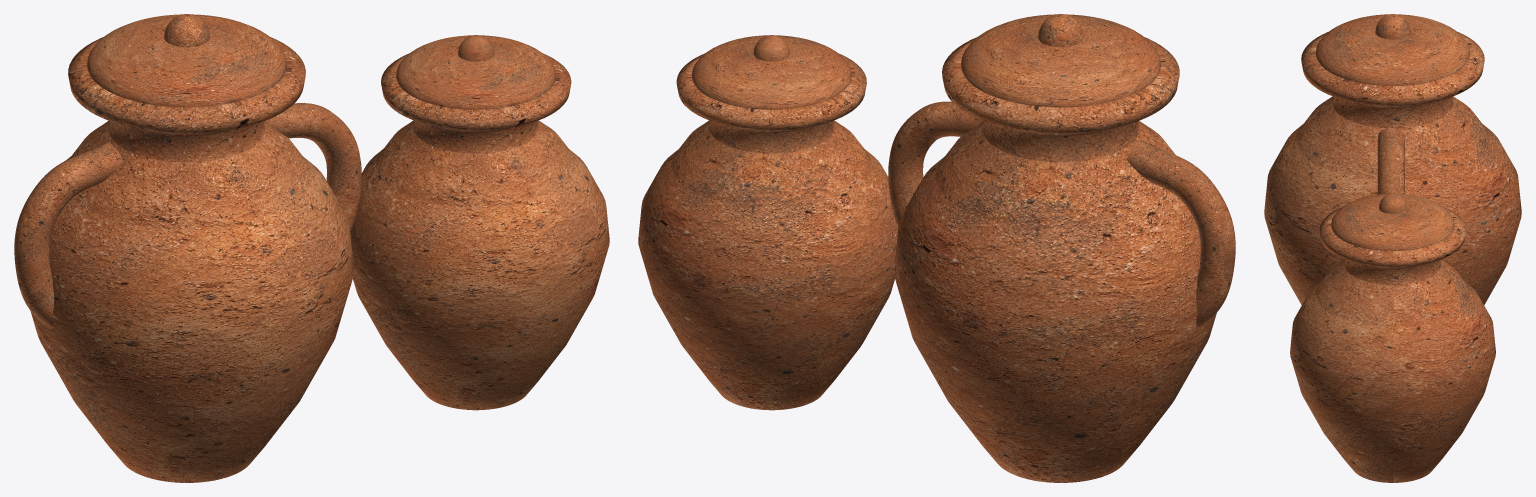
File: funeral-urns-v02.glb
3 renders of one model, left to right at view 1: azimuth 30°, elevation 25°; view 2: azimuth 150°, elevation 25°; view 3: azimuth 270°, elevation 25°, orthographic. The views are drawn at different scales.
Parts seen in each view (by area): view 1: Urna maior corpo de urna, Urna menor corpo de urna, Urna maior tampa, Urna menor tampa, Urna maior alca esquerda, Urna maior alca direita, Urna maior pomo da tampa, Urna menor pomo da tampa; view 2: Urna maior corpo de urna, Urna menor corpo de urna, Urna maior tampa, Urna menor tampa, Urna maior alca esquerda, Urna maior alca direita, Urna maior pomo da tampa, Urna menor pomo da tampa; view 3: Urna menor corpo de urna, Urna maior corpo de urna, Urna maior tampa, Urna menor tampa, Urna maior alca direita, Urna maior pomo da tampa, Urna menor pomo da tampa.
Boxes of the visible parts, x1,y1,x2,y2 form: Urna maior corpo de urna: (30, 37, 353, 482); Urna menor corpo de urna: (350, 53, 609, 410); Urna maior tampa: (87, 14, 286, 107); Urna menor tampa: (396, 35, 556, 109); Urna maior alca esquerda: (14, 142, 123, 328); Urna maior alca direita: (265, 103, 361, 231); Urna maior pomo da tampa: (164, 14, 209, 47); Urna menor pomo da tampa: (458, 35, 494, 61); Urna maior corpo de urna: (894, 37, 1216, 482); Urna menor corpo de urna: (638, 53, 898, 410); Urna maior tampa: (960, 14, 1160, 107); Urna menor tampa: (691, 35, 851, 109); Urna maior alca esquerda: (1126, 140, 1235, 327); Urna maior alca direita: (888, 101, 982, 226); Urna maior pomo da tampa: (1038, 14, 1083, 47); Urna menor pomo da tampa: (753, 35, 789, 61); Urna menor corpo de urna: (1290, 208, 1495, 482); Urna maior corpo de urna: (1264, 32, 1521, 304); Urna maior tampa: (1315, 14, 1470, 85); Urna menor tampa: (1331, 193, 1454, 251); Urna maior alca direita: (1377, 128, 1404, 194); Urna maior pomo da tampa: (1375, 14, 1410, 39); Urna menor pomo da tampa: (1379, 193, 1406, 213).
Size of the model in its own units: 1.43 by 1.07 by 0.72.
1 material, 1 textured.
